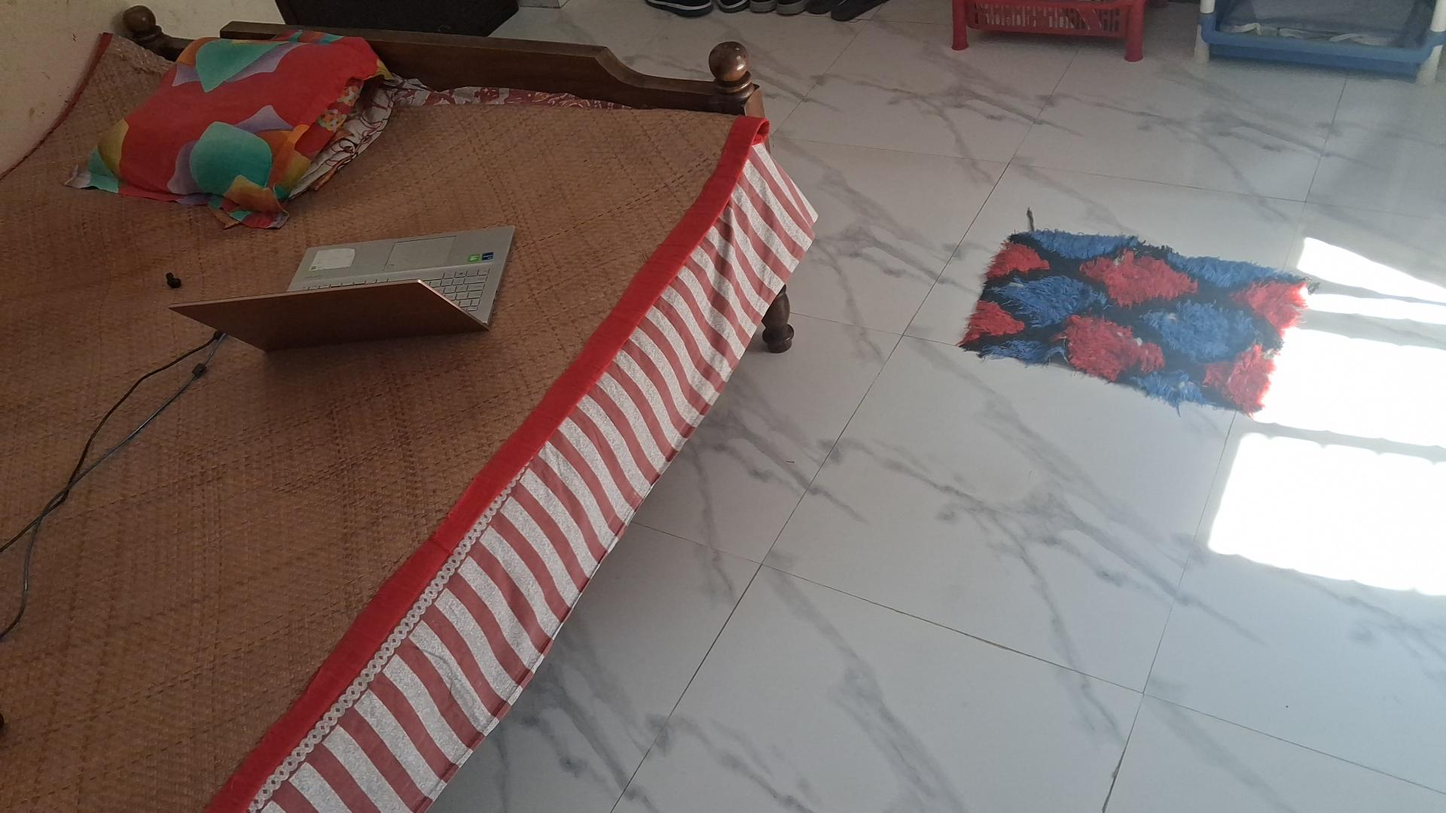Floor Mat: (961, 229, 1320, 405)
Laptop: (167, 226, 541, 351)
Pillow: (80, 34, 412, 198)
